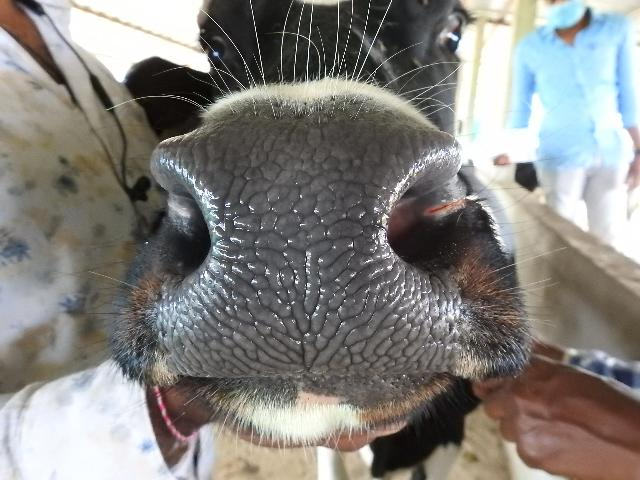Muzzle: (165, 136, 458, 373)
